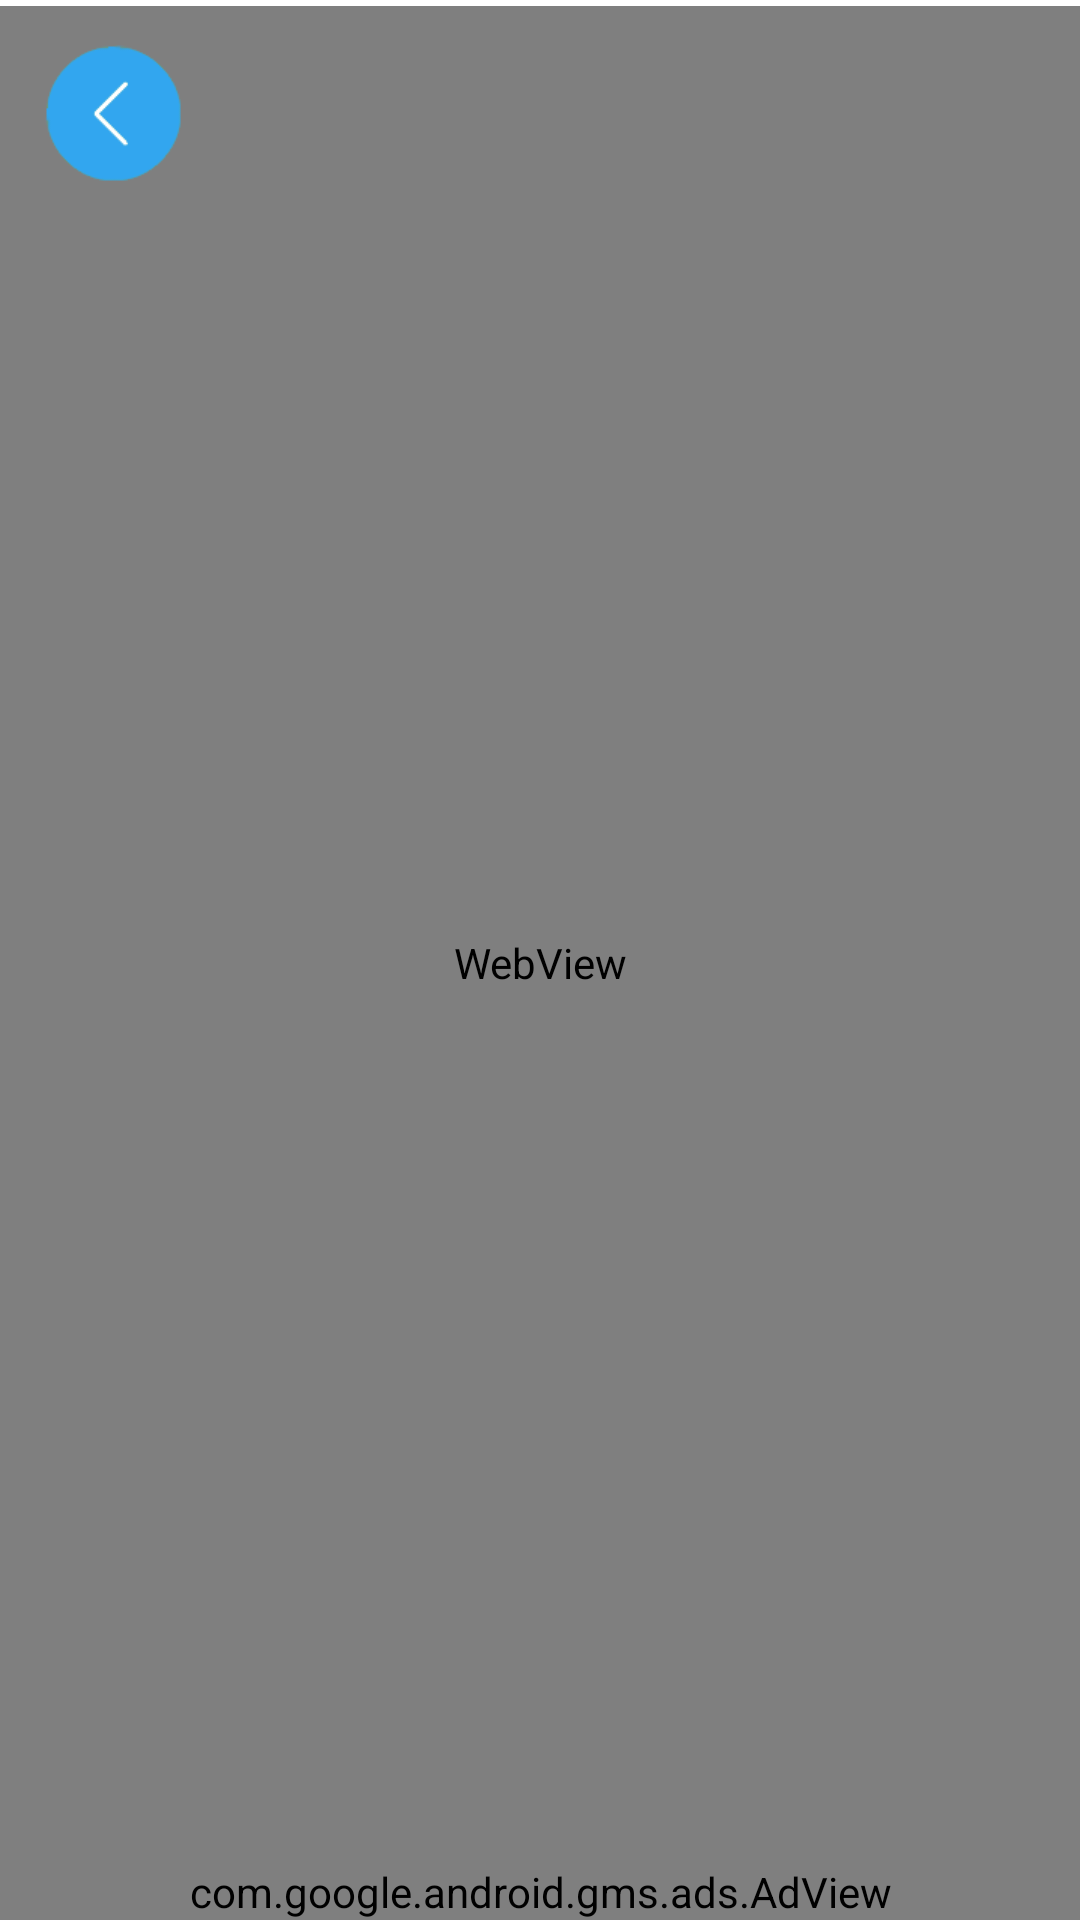

Where icons sit on this 1080 × 1920 app screen, as (x1, y1, x2, y2):
left arrow: (46, 46, 181, 181)
